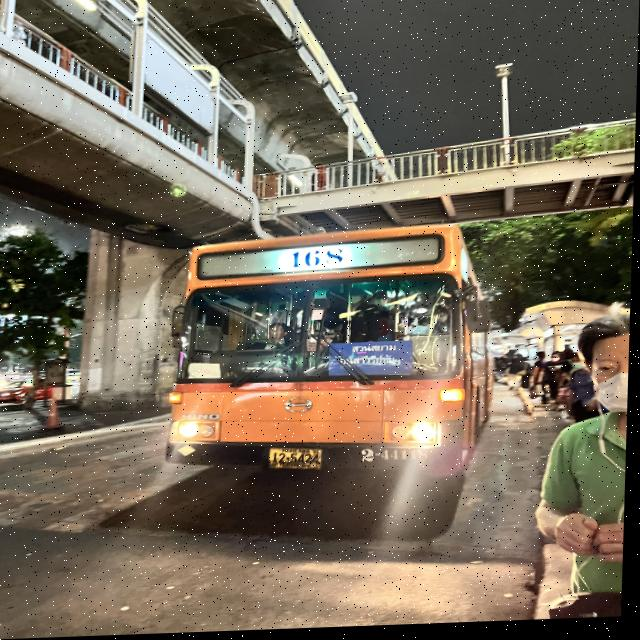BMTA-bus: (170, 229, 494, 481)
Bus Line Number: (283, 244, 354, 273)
Bus Side Number: (358, 448, 434, 473)
Destination Sign: (329, 344, 418, 383)
